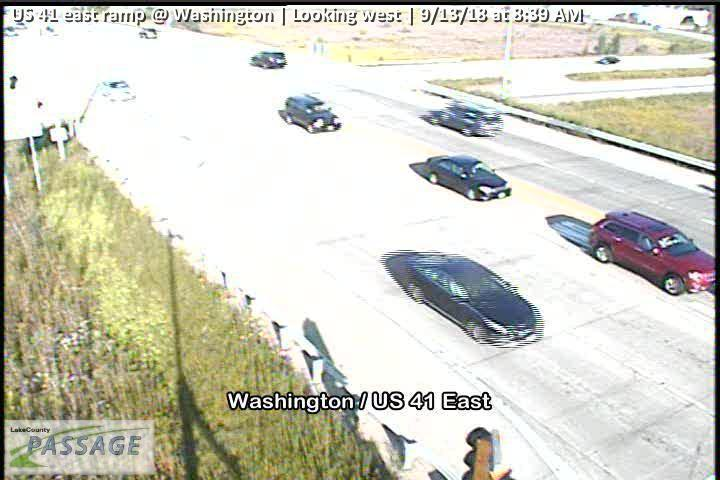SUV: (588, 209, 720, 295), (429, 100, 504, 136), (283, 95, 342, 134)
Sedan: (385, 250, 541, 346), (424, 154, 513, 201), (248, 49, 287, 69)
